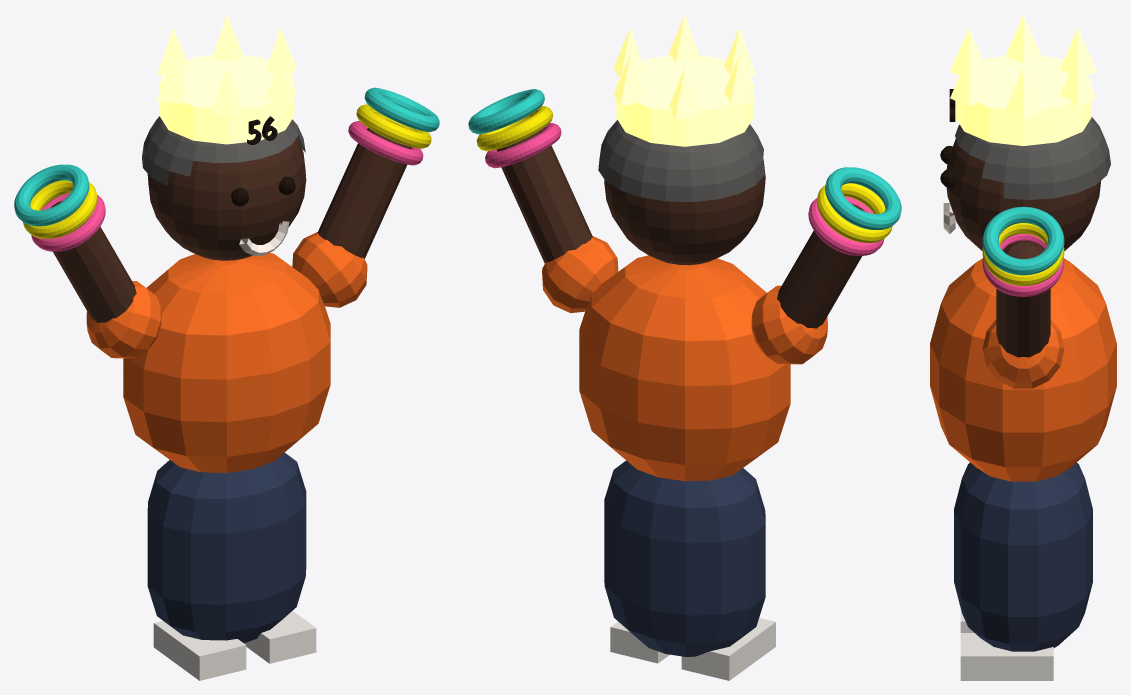
Rendered from dancer.glb.
3 renders of one model, left to right at view 1: azimuth 30°, elevation 25°; view 2: azimuth 150°, elevation 25°; view 3: azimuth 270°, elevation 25°, orthographic.
Visible parts, largest first — view 1: body, legs, head, crown, armR, hair, armL, sleeveR, sleeveL, Cube, Torus.008, Cube.001 (+12 smaller); view 2: body, legs, hair, head, crown, armR, armL, sleeveR, sleeveL, Torus.008, Cube, Torus.007 (+11 smaller); view 3: body, legs, crown, hair, head, armR, Cube.001, Torus.011, sleeveR, Torus.010, Torus.009, Cone (+6 smaller).
Part boxes in pixels (box(x1,y1,x2,y2)): body: box(123, 253, 330, 472); legs: box(147, 452, 306, 642); head: box(147, 137, 306, 260); crown: box(159, 55, 294, 144); armR: box(317, 128, 411, 258); hair: box(142, 116, 305, 186); armL: box(50, 201, 136, 322); sleeveR: box(292, 232, 367, 307); sleeveL: box(86, 281, 161, 358); Cube: box(153, 621, 246, 680); Torus.008: box(14, 164, 89, 226); Cube.001: box(244, 610, 316, 663); body: box(579, 255, 790, 481); legs: box(604, 460, 765, 656); hair: box(598, 120, 764, 201); head: box(604, 159, 765, 265); crown: box(616, 55, 753, 146); armR: box(496, 130, 592, 263); armL: box(777, 204, 864, 328); sleeveR: box(542, 236, 618, 312); sleeveL: box(751, 285, 827, 364); Torus.008: box(825, 167, 901, 229); Cube: box(681, 618, 775, 680); Torus.007: box(816, 183, 892, 242); body: box(930, 258, 1116, 481); legs: box(954, 462, 1092, 651); crown: box(955, 56, 1091, 145); hair: box(955, 117, 1110, 199); head: box(946, 138, 1101, 250); armR: box(996, 241, 1050, 357); Cube.001: box(960, 633, 1053, 680); Torus.011: box(982, 206, 1064, 275); sleeveR: box(982, 319, 1064, 388); Torus.010: box(982, 223, 1064, 285); Torus.009: box(982, 233, 1064, 296); Cone: box(1005, 67, 1041, 119).
Size of the model in its own units: 1.77 by 2.47 by 0.684.
